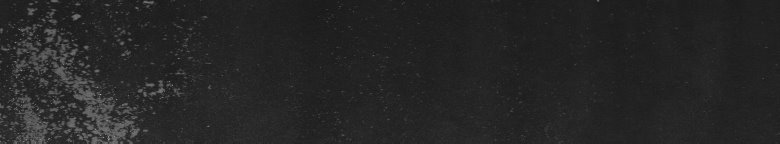kb: (20, 4, 132, 136)
